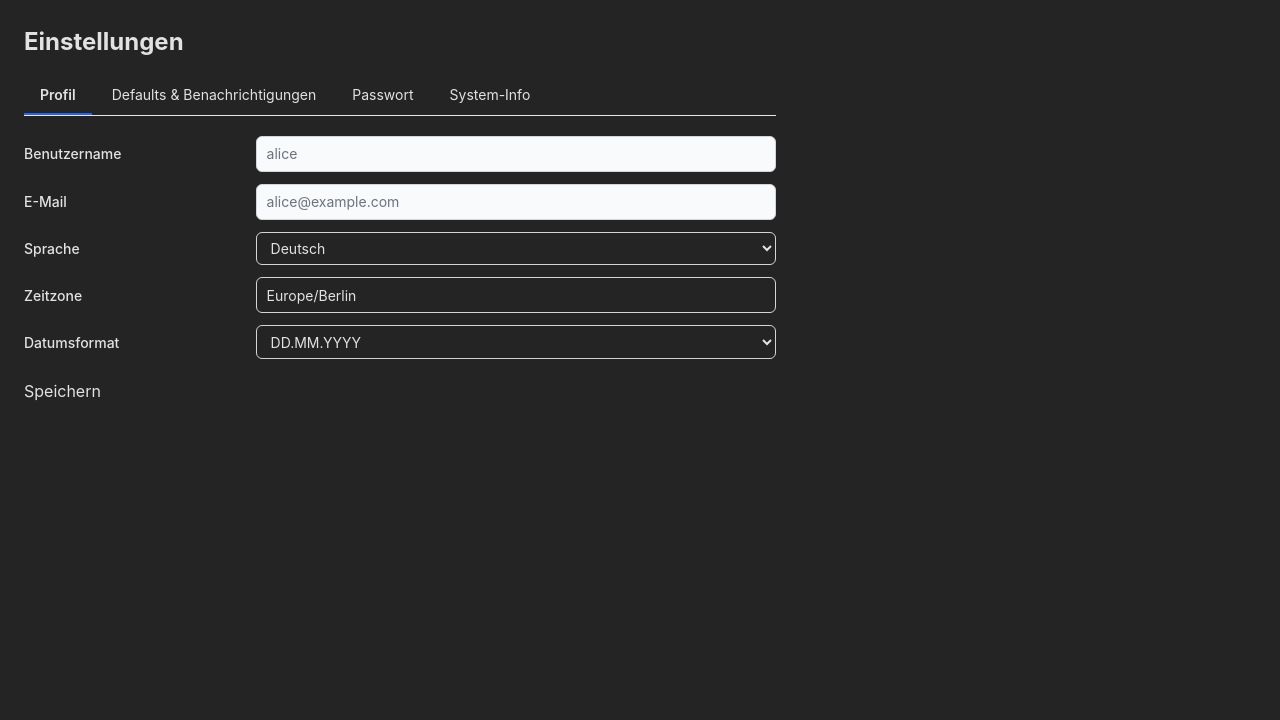
Scenario: SettingsView › opens password modal from password tab
Click the tab "Passwort" at (383, 96), box [336,76,430,115]
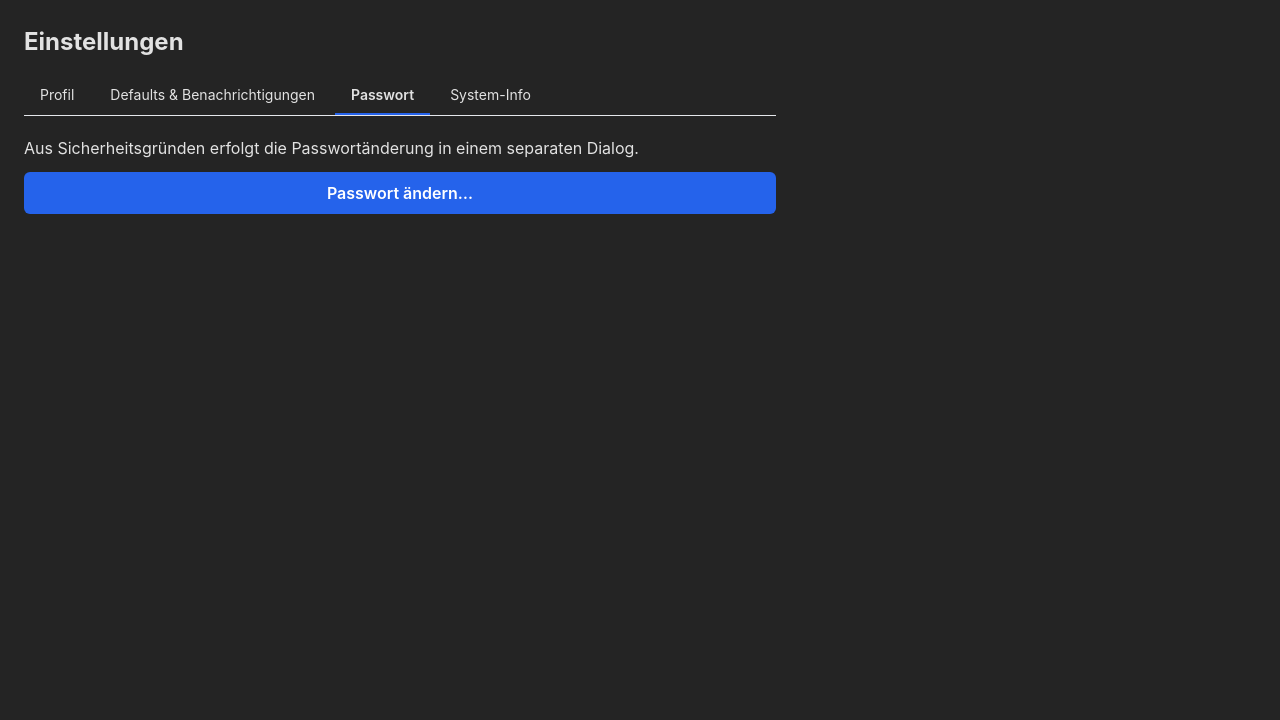
Click the button "Passwort ändern…" at (400, 193), box [24,172,776,214]
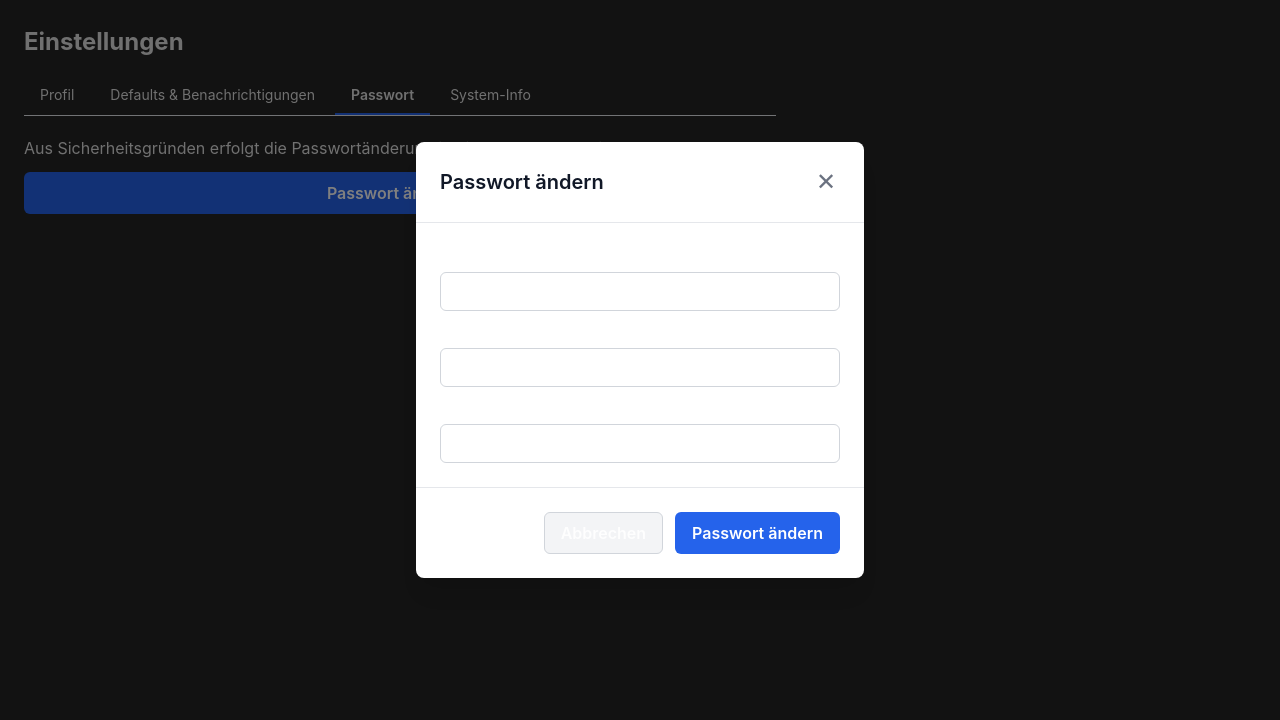
Now the dialog is shown, box [416,142,864,578]
